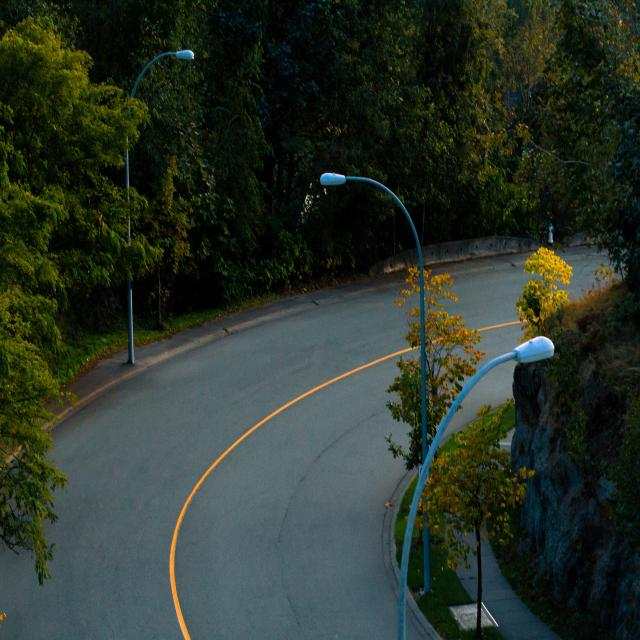Street Light: (395, 337, 558, 640), (320, 170, 432, 596), (127, 47, 196, 364)
